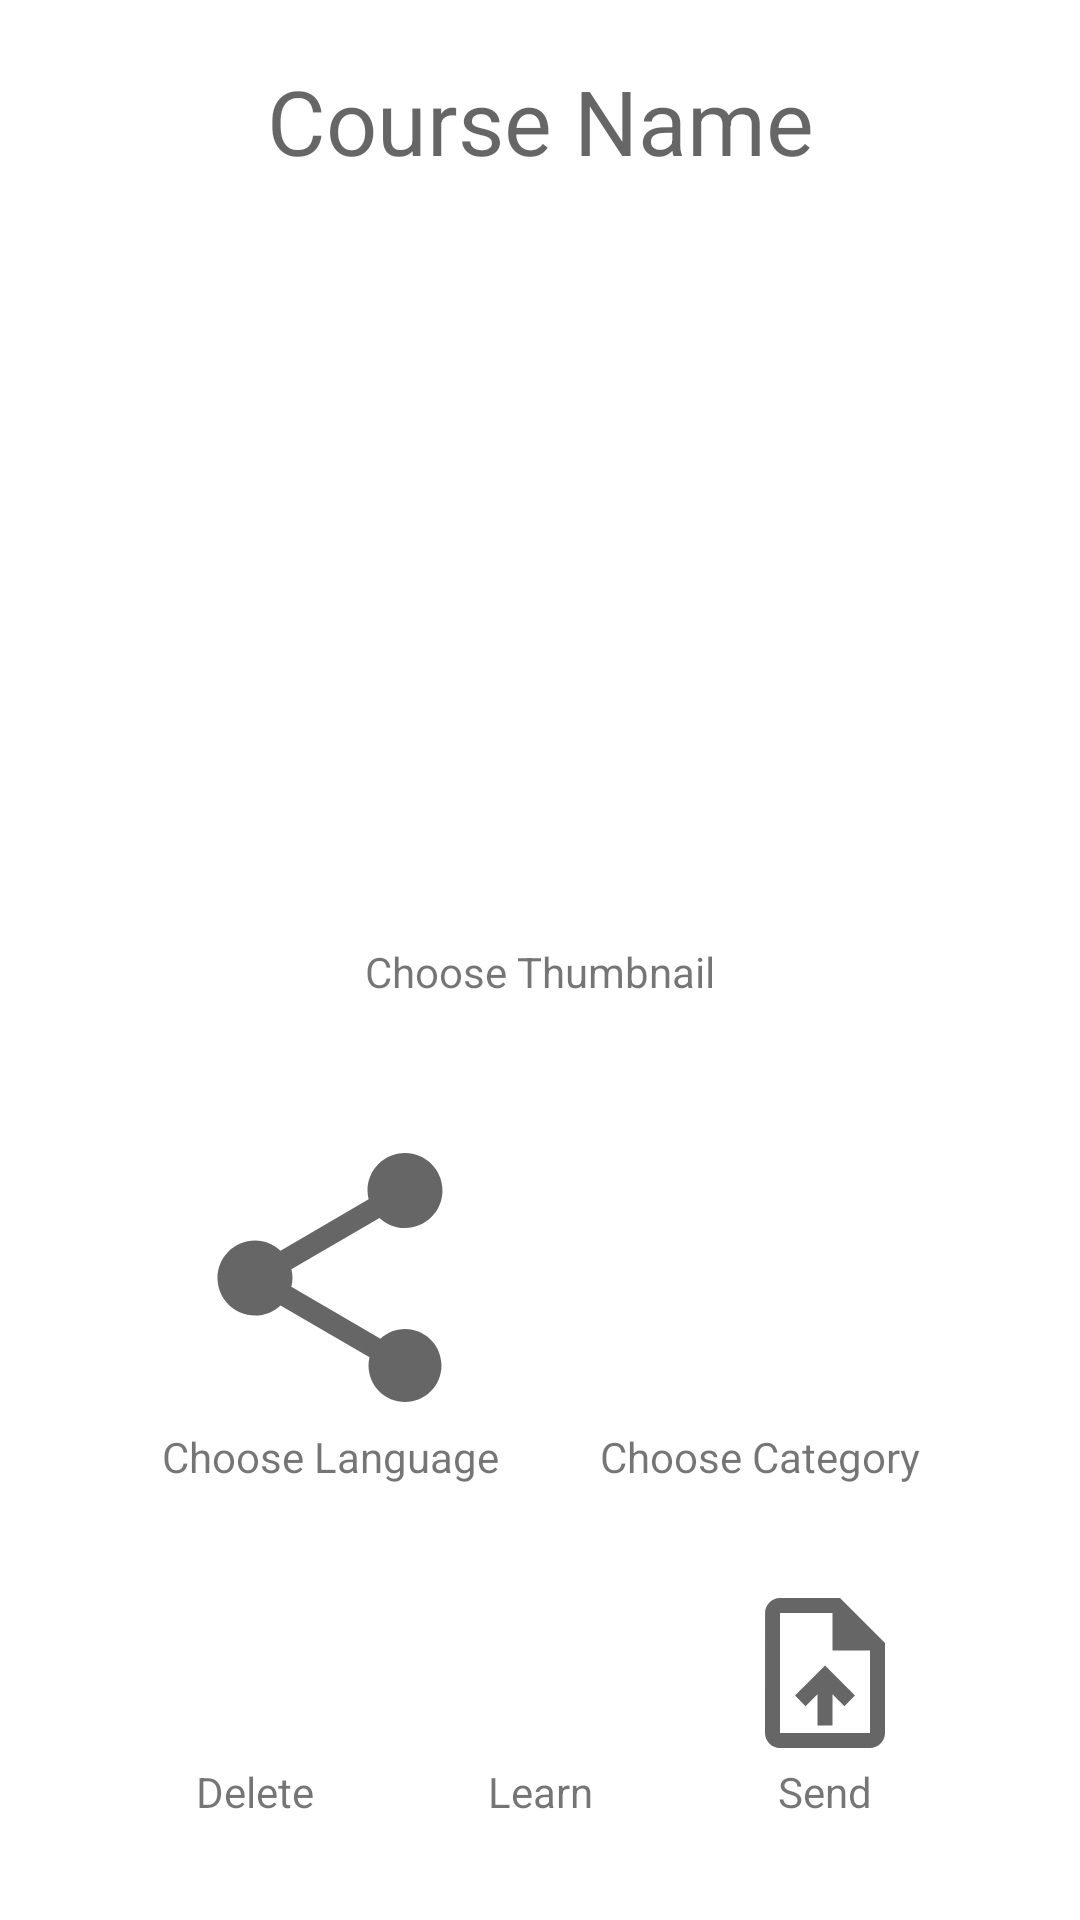

Point at icon controls on the screen. Image size 1080w x 1920h, points as [x,y].
share: [330,1277]
upload file: [825,1673]
